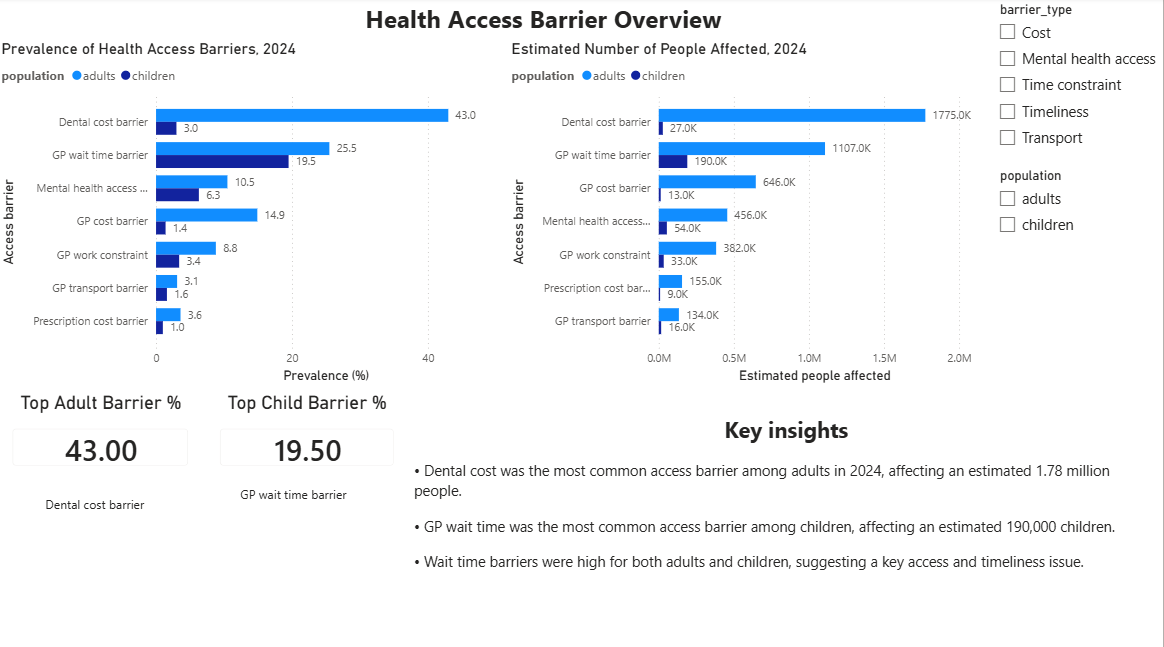

What the dashboard file says about the page in this screenshot:
{"tool":"powerbi","page":{"name":"Access Barrier Overview","canvas":[1280,720],"ordinal":0},"visuals":[{"type":"textbox","box":[399.2,0,631.2,92.1],"z":0},{"type":"clusteredBarChart","title":"Prevalence of Health Access Barriers, 2024","fields":{"Category":["vw_priority_barriers.indicator_short_name"],"Y":["Avg(vw_priority_barriers.total_value)"],"Series":["vw_priority_barriers.population"]},"box":[0,46.7,559.9,381.5],"z":1000},{"type":"clusteredBarChart","title":"Estimated Number of People Affected, 2024","fields":{"Category":["vw_priority_barriers.indicator_short_name"],"Series":["vw_priority_barriers.population"],"Y":["Sum(vw_priority_barriers.estimated_number)"]},"box":[559.9,46.7,528.3,381.5],"z":2000},{"type":"slicer","title":"Population","fields":{"Values":["vw_priority_barriers.population"]},"box":[1088.2,182.5,167.4,91.9],"z":3000},{"type":"slicer","title":"Barrier Type","fields":{"Values":["vw_priority_barriers.barrier_type"]},"box":[1088.2,0,192.1,182.5],"z":4000},{"type":"cardVisual","title":"Top Adult Barrier %","fields":{"Data":["Avg(vw_priority_barriers.total_value)"]},"box":[0,433.6,227.8,98.8],"z":5000},{"type":"cardVisual","title":"Top Child Barrier %","fields":{"Data":["Avg(vw_priority_barriers.total_value)"]},"box":[227.8,433.6,225,98.8],"z":6000},{"type":"textbox","box":[48,543.4,131.7,34.3],"z":7000},{"type":"textbox","box":[262.1,532.4,157.8,28.8],"z":8000},{"type":"textbox","box":[452.8,454.2,827.4,200.3],"z":9000}]}

Visuals, with their boxes in screenshot pixels (x1, y1, x2, y2), scaled from the page's 1280x720 canvas onto the 1164x647 screenshot:
textbox: select_region(363, 0, 937, 83)
"Prevalence of Health Access Barriers, 2024" clusteredBarChart: select_region(0, 42, 509, 385)
"Estimated Number of People Affected, 2024" clusteredBarChart: select_region(509, 42, 990, 385)
"Population" slicer: select_region(990, 164, 1142, 247)
"Barrier Type" slicer: select_region(990, 0, 1163, 164)
"Top Adult Barrier %" cardVisual: select_region(0, 390, 207, 478)
"Top Child Barrier %" cardVisual: select_region(207, 390, 412, 478)
textbox: select_region(44, 488, 163, 519)
textbox: select_region(238, 478, 382, 504)
textbox: select_region(412, 408, 1163, 588)
